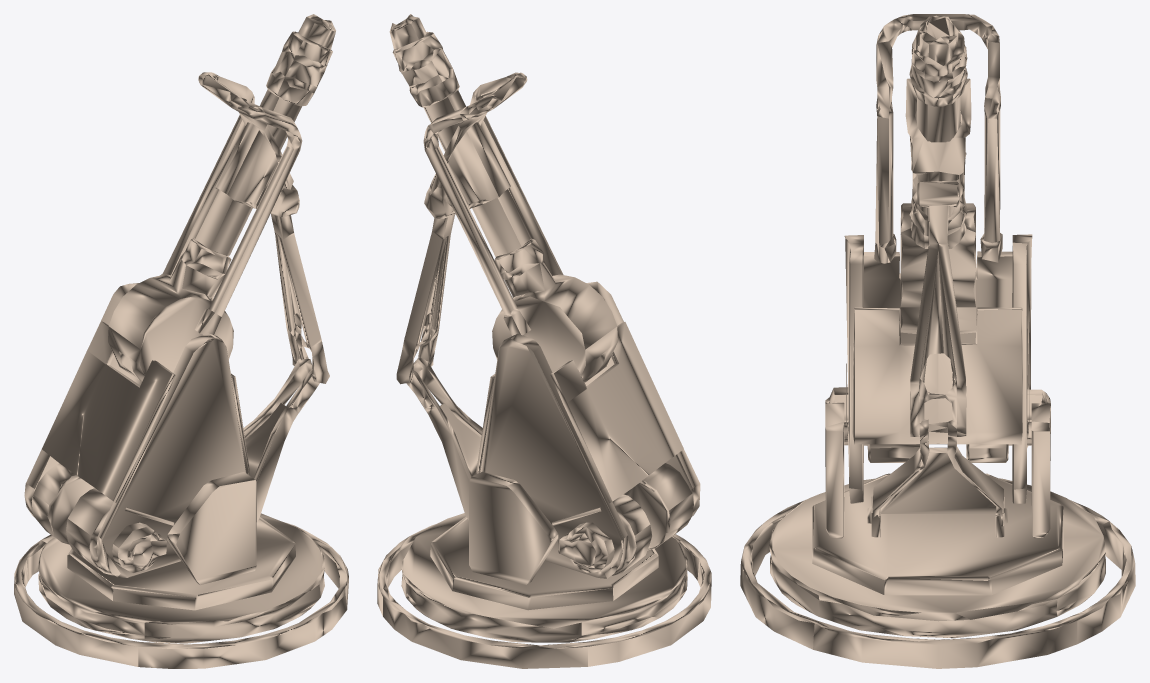
File: tether_gun.glb
3 views of the same model, side by side, from view 1: azimuth 30°, elevation 25°; view 2: azimuth 150°, elevation 25°; view 3: azimuth 270°, elevation 25° (orthographic). The views are drawn at different scales.
Bounding box in the file's own units: 42.9 × 76.09 × 42.2.
